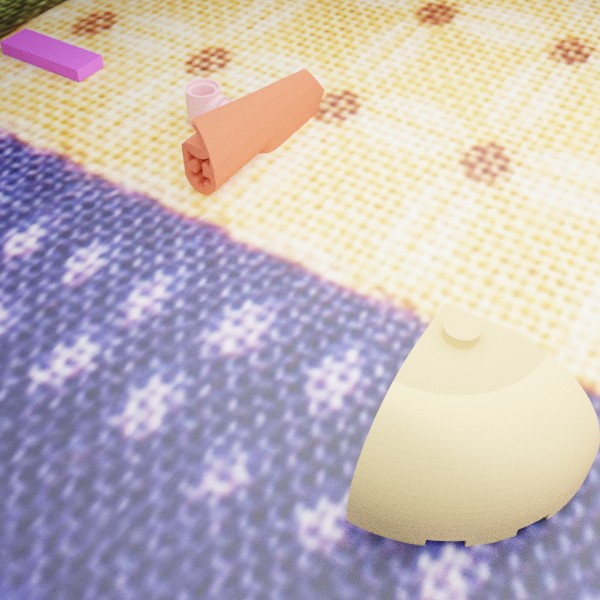lego: (345, 302, 599, 546), (181, 68, 324, 194), (0, 28, 103, 82), (184, 78, 259, 134)
